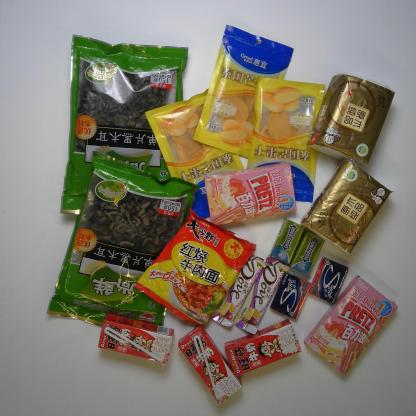Chocolate: (234, 254, 288, 336), (214, 250, 264, 330)
Dessert: (302, 270, 400, 376), (201, 162, 301, 228)
Dried Food: (45, 143, 195, 330), (58, 32, 199, 217)
Dried Fruit: (192, 19, 296, 155), (140, 84, 252, 195), (248, 72, 326, 208)
Gum: (266, 216, 308, 266), (308, 254, 348, 306), (270, 271, 312, 319), (289, 226, 325, 281)
Instant Noodles: (131, 202, 261, 325)
Milk: (174, 318, 247, 404), (224, 318, 304, 382), (97, 314, 177, 367)
Tissue: (296, 153, 395, 258), (307, 68, 400, 170)
